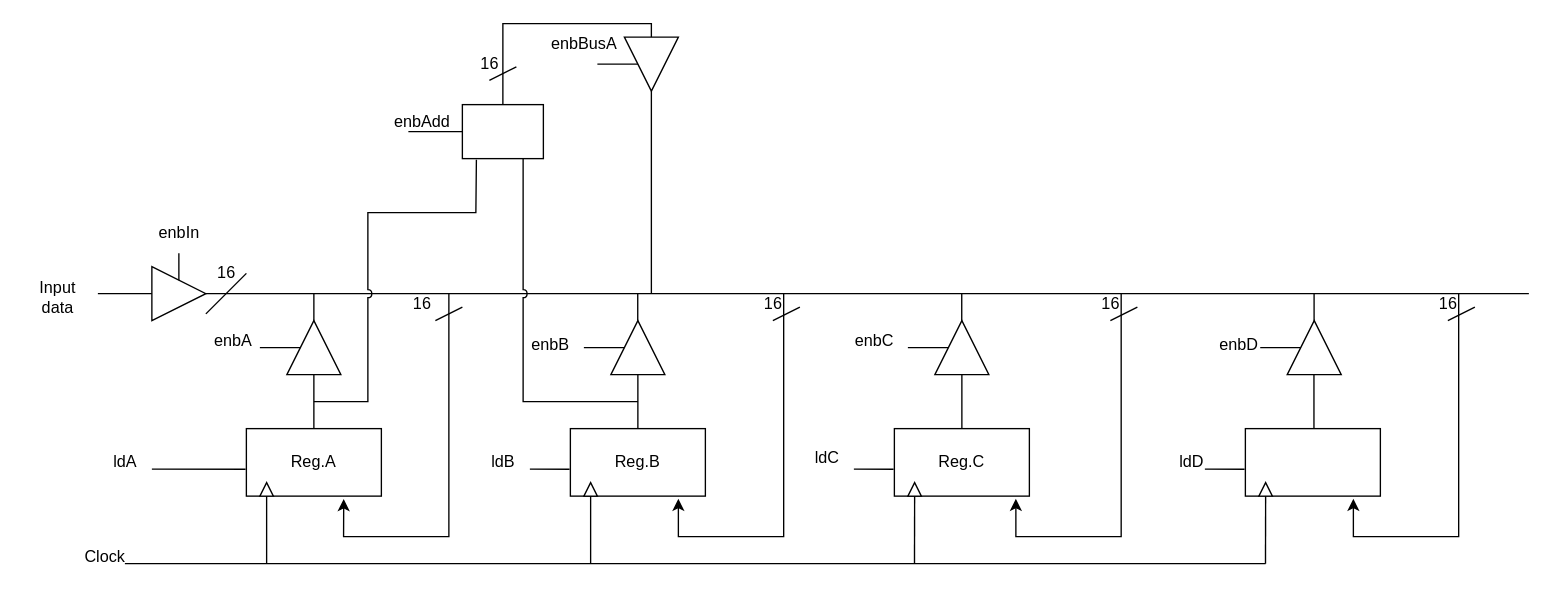
This 1554x601 diagram has some shape labels left out. The centre of each missing label's shape, as x and y in pixels:
"Adder1" goes at [502,131].
"Reg.D" goes at [1312,461].
